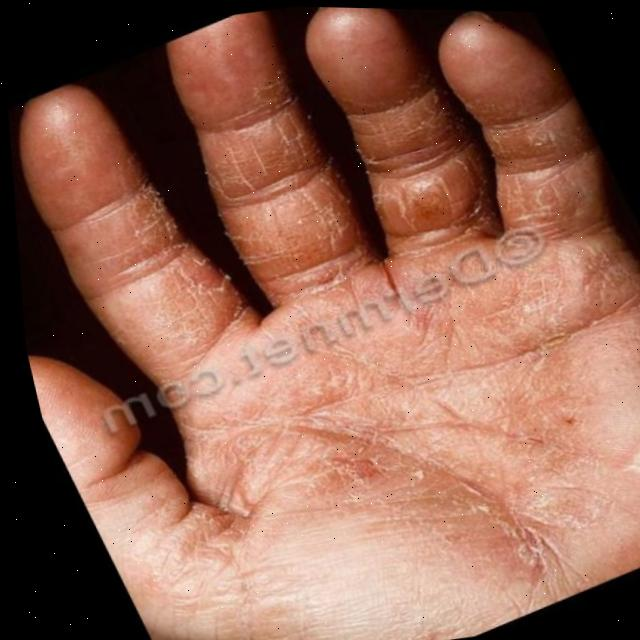Eczema: (37, 13, 640, 565)
